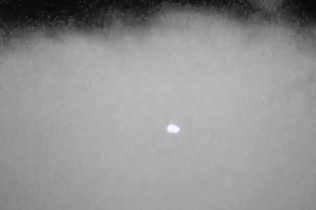Target: (167, 124, 179, 133)
